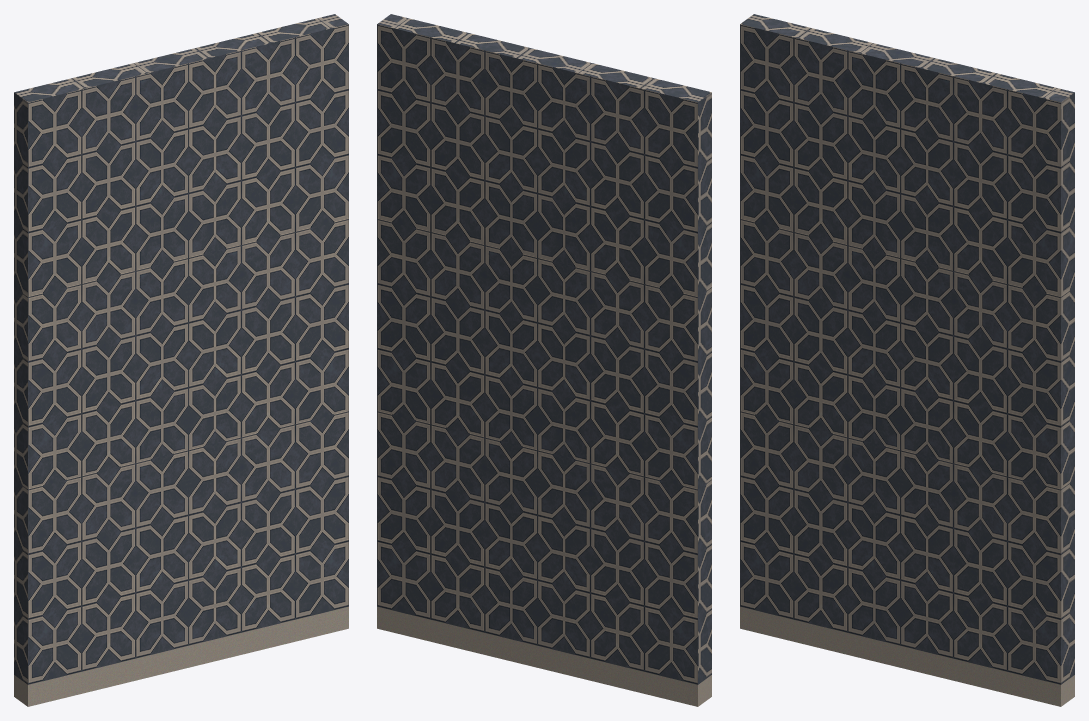
The model's file is ARC0210053.fbx.
3 renders of one model, left to right at view 1: azimuth 30°, elevation 25°; view 2: azimuth 150°, elevation 25°; view 3: azimuth 330°, elevation 25°, orthographic.
Visible parts, largest first — view 1: smARC0210053; view 2: smARC0210053; view 3: smARC0210053.
Boxes of the visible parts, bbox=[...] form: smARC0210053: bbox=[14, 14, 348, 706]; smARC0210053: bbox=[377, 14, 711, 706]; smARC0210053: bbox=[740, 14, 1074, 706].
Size of the model in its own units: 182 by 328 by 13.67.
1 material, 1 textured.
